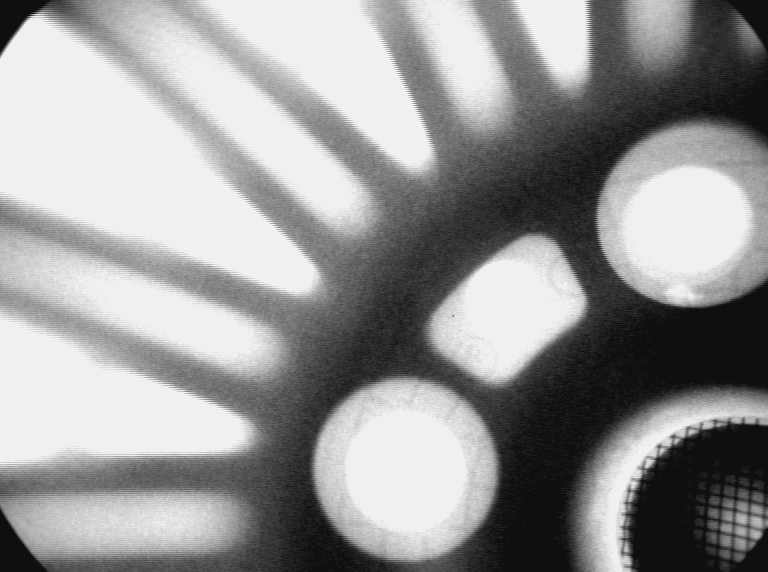defect: (662, 279, 708, 312)
